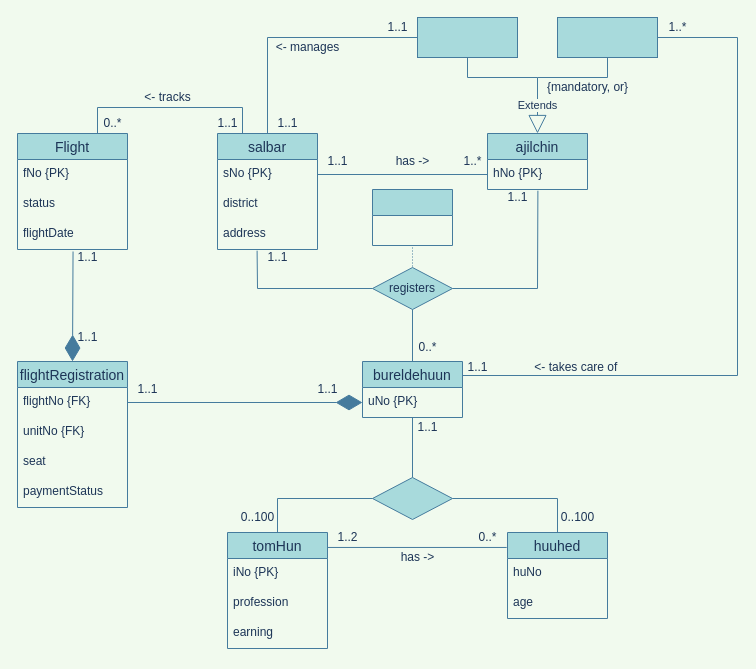
This 756x669 diagram has some shape labels left out. Each missing label, with the centre of its shape:
hyanagch: the point at 607,37
includes: the point at 412,498
manager: the point at 467,37
reg_date: the point at 412,217
